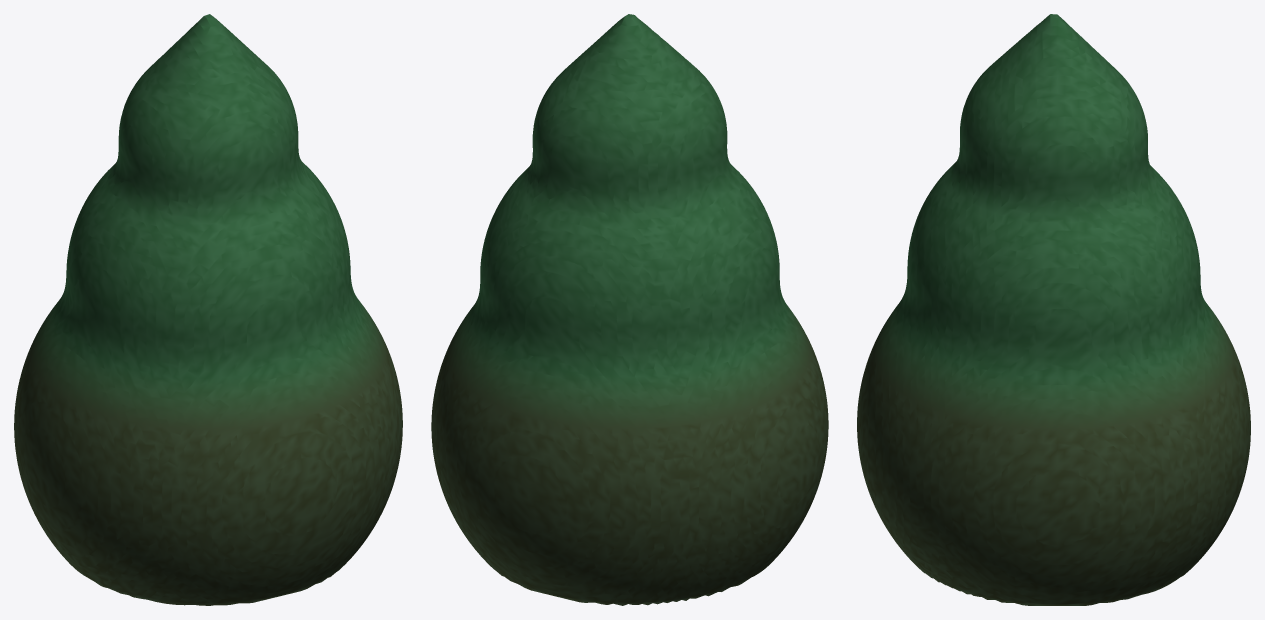
Rendered from pine2.glb.
3 views of the same model, side by side, from view 1: azimuth 30°, elevation 25°; view 2: azimuth 150°, elevation 25°; view 3: azimuth 270°, elevation 25° (orthographic).
Visible parts, largest first — view 1: pine2; view 2: pine2; view 3: pine2.
Boxes of the visible parts, x1,y1,x2,y2 form: pine2: [14, 14, 402, 605]; pine2: [431, 14, 828, 605]; pine2: [857, 14, 1250, 605].
Size of the model in its own units: 2.1 by 3.12 by 2.1.
